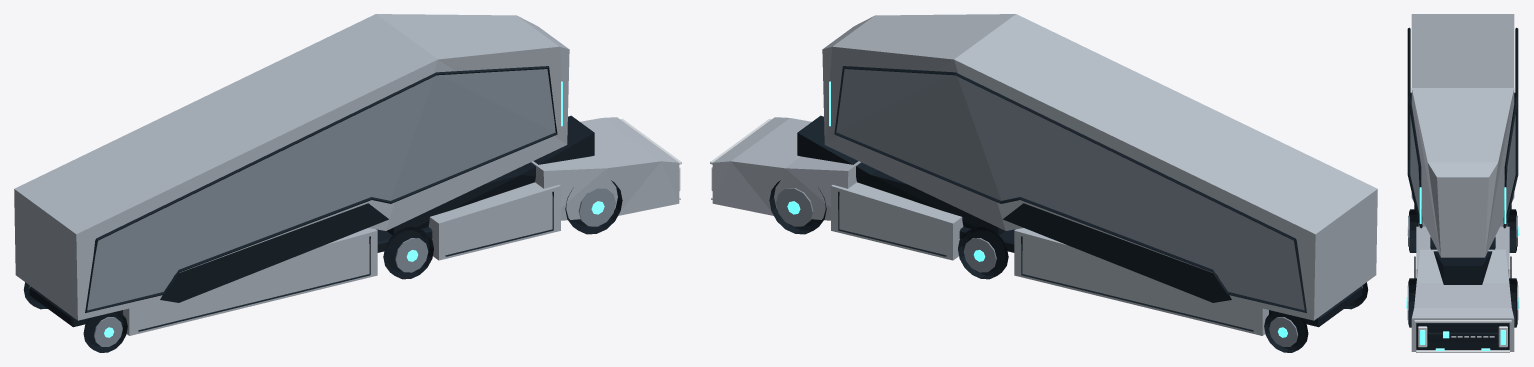
Rendered from reference-truck.glb.
3 views of the same model, side by side, from view 1: azimuth 30°, elevation 25°; view 2: azimuth 150°, elevation 25°; view 3: azimuth 270°, elevation 25° (orthographic). The views are drawn at different scales.
Visible parts, largest first — view 1: Body body, Body panel, Body dark, Tire 1 -1, Wheel alloy, Wheel alloy.002, Tire 2 -1, Tire 0 -1, Wheel alloy.004; view 2: Body body, Body panel, Body dark, Tire 1 1, Wheel alloy.001, Wheel alloy.003, Tire 2 1, Tire 0 1, Wheel alloy.005; view 3: Body body, Body dark, Body panel, Body trim, Body accent, Tire 1 1, Tire 1 -1, Tire 0 1, Tire 0 -1.
Part boxes in pixels (x1,y1,x2,y2): Body body: (14, 14, 679, 335); Body panel: (87, 69, 555, 310); Body dark: (29, 66, 594, 331); Tire 1 -1: (383, 227, 433, 279); Wheel alloy: (578, 188, 615, 226); Wheel alloy.002: (395, 238, 428, 272); Tire 2 -1: (83, 311, 127, 352); Tire 0 -1: (565, 180, 622, 234); Wheel alloy.004: (94, 317, 122, 346); Body body: (712, 14, 1377, 335); Body panel: (836, 69, 1304, 310); Body dark: (797, 66, 1362, 331); Tire 1 1: (958, 227, 1008, 279); Wheel alloy.001: (776, 188, 813, 226); Wheel alloy.003: (963, 238, 996, 272); Tire 2 1: (1264, 311, 1308, 352); Tire 0 1: (769, 180, 826, 234); Wheel alloy.005: (1269, 317, 1297, 346); Body body: (1411, 14, 1514, 351); Body dark: (1407, 27, 1518, 349); Body panel: (1410, 115, 1515, 217); Body trim: (1414, 320, 1511, 352); Body accent: (1419, 187, 1506, 350); Tire 1 1: (1507, 209, 1516, 252); Tire 1 -1: (1409, 209, 1418, 252); Tire 0 1: (1509, 278, 1517, 327); Tire 0 -1: (1408, 278, 1416, 327).
Bounding box in the file's own units: 14.48 × 4.81 × 2.83.
